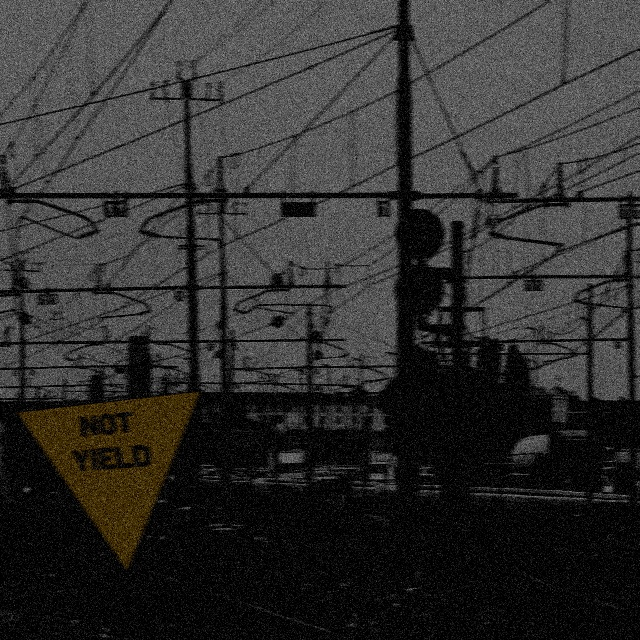NOT_YIELD: (15, 388, 204, 573)
